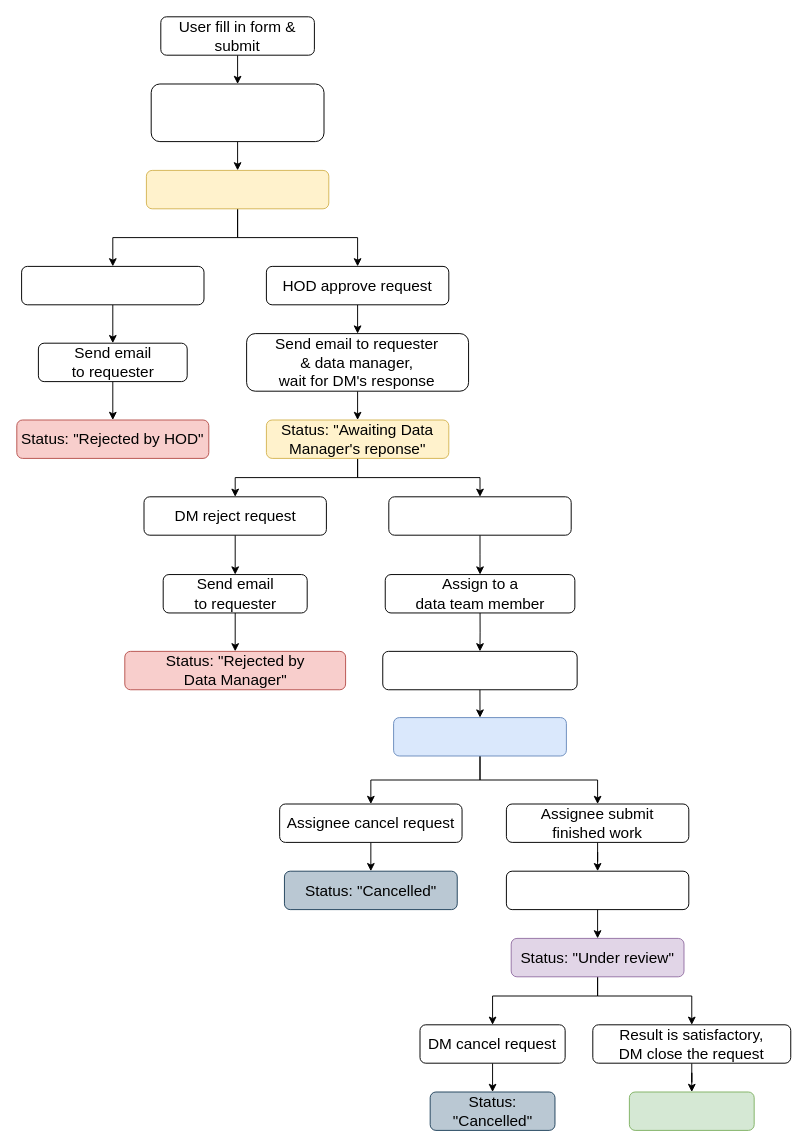
The diagram is 808 pixels wide and 1147 high, and some of its shapes have lost their labels. The centre of each missing label's shape, as x and y in pixels:
DM approve request: pixel 479 515
HOD reject request: pixel 112 285
Send email to assignee & requester: pixel 479 670
Send email to HOD, wait for HOD's response: pixel 237 112
Send email to requester & DM: pixel 597 890
Status: "Awaiting HOD's reponse": pixel 237 189
Status: "Closed": pixel 691 1110
Status: "In progress": pixel 479 736
